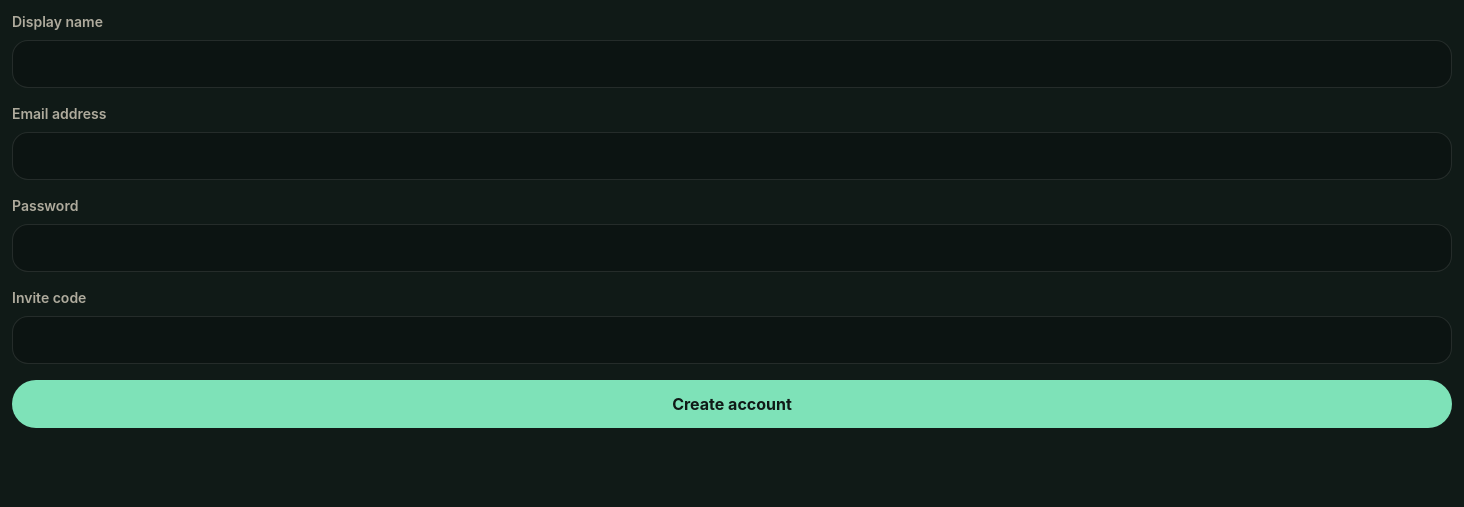
RegistrationForm › shows one generic registration failure
The image size is (1464, 507).
Type "Alex" into the field labelled "Display name".
click(732, 64); type("Alex")  # box [12,40,1452,88]
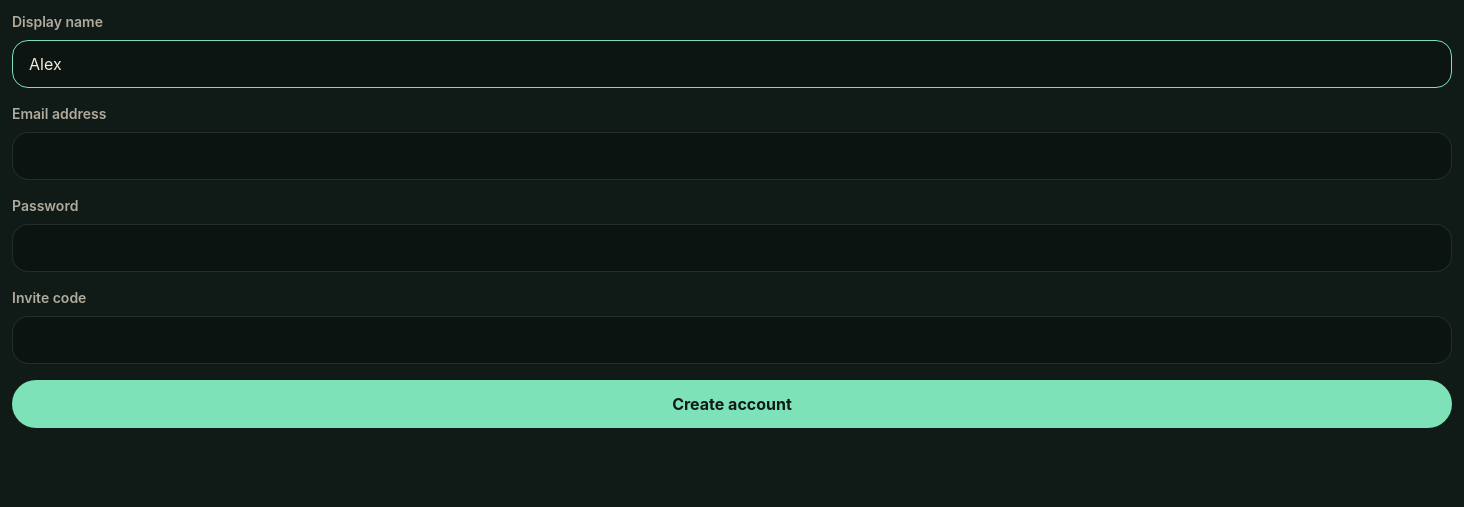
Type "alex@example.com" into the field labelled "Email address".
click(732, 156); type("alex@example.com")  # box [12,132,1452,180]
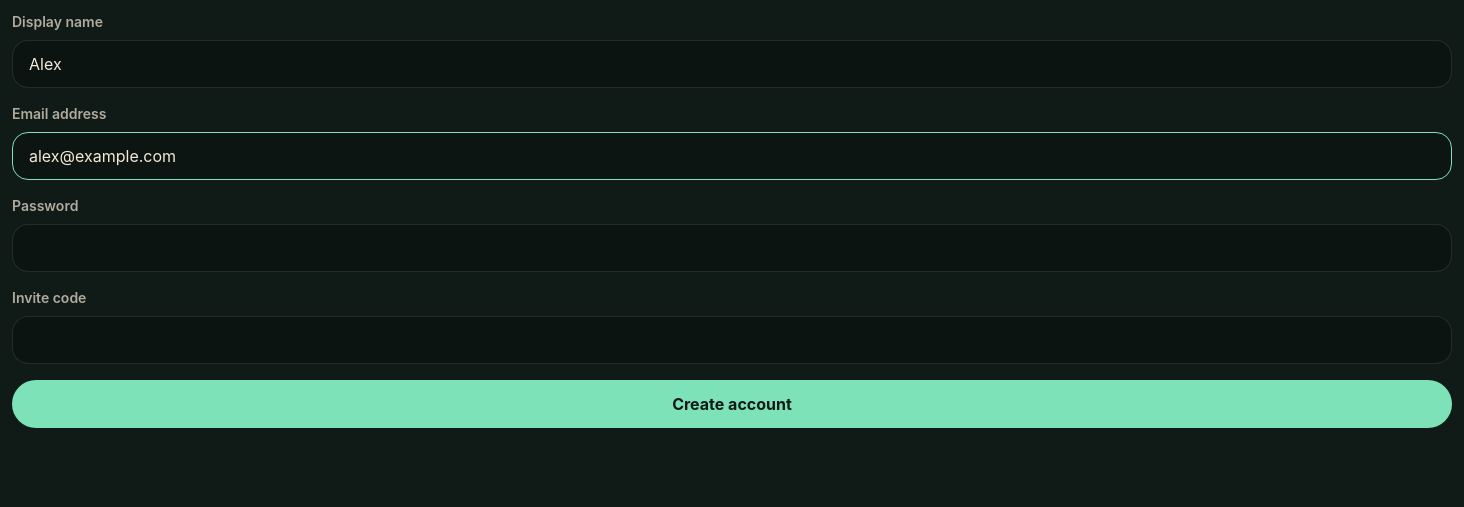
Type "ten-characters" into the password field labelled "Password".
click(732, 248); type("ten-characters")  # box [12,224,1452,272]
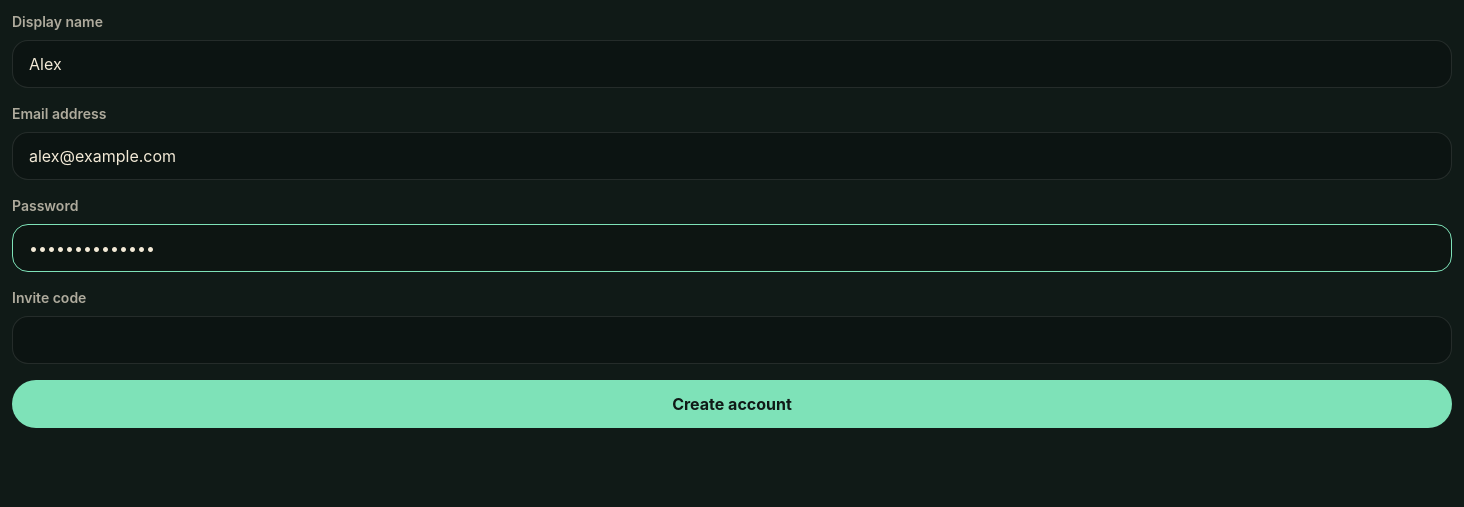
Type "MTP-M-23456789ABCDEFGH" into the field labelled "Invite code".
click(732, 340); type("MTP-M-23456789ABCDEFGH")  # box [12,316,1452,364]
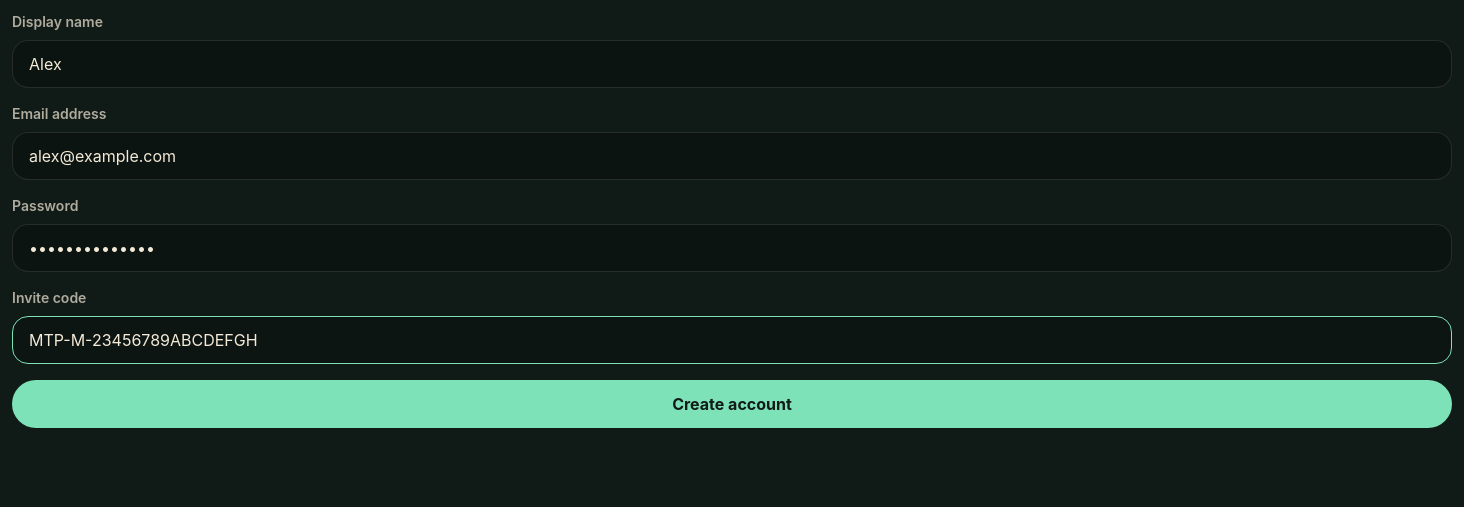
Click the button "Create account".
click(732, 404)  # box [12,380,1452,428]
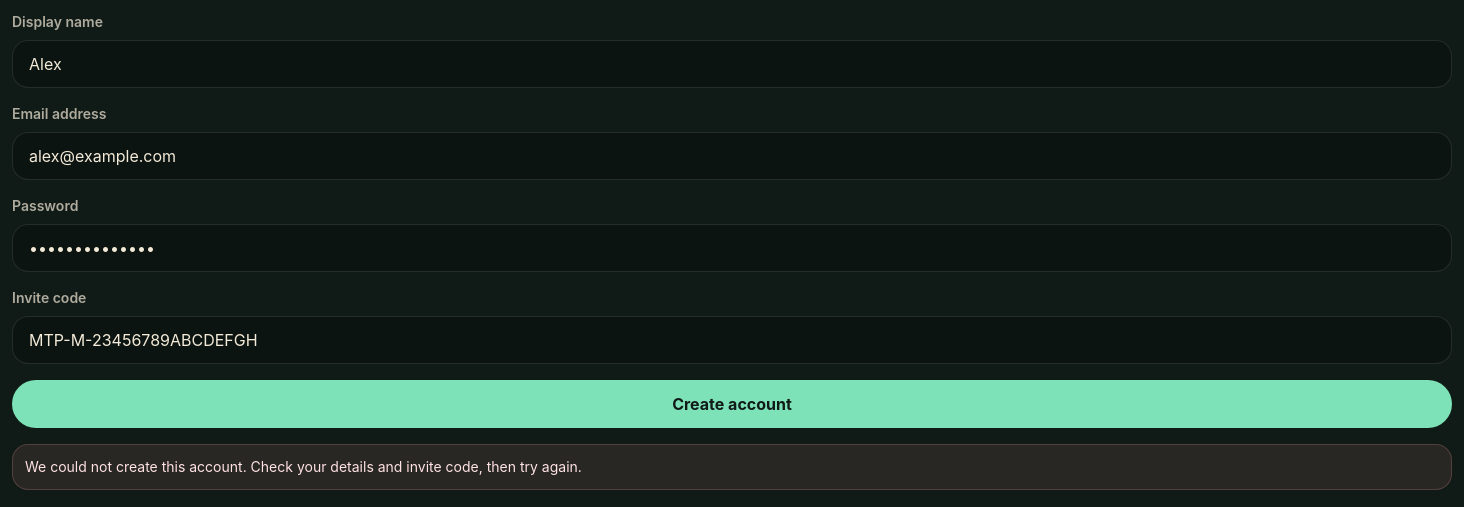
expect the message shows "We could not create this account.": met, box [25,458,582,475]
